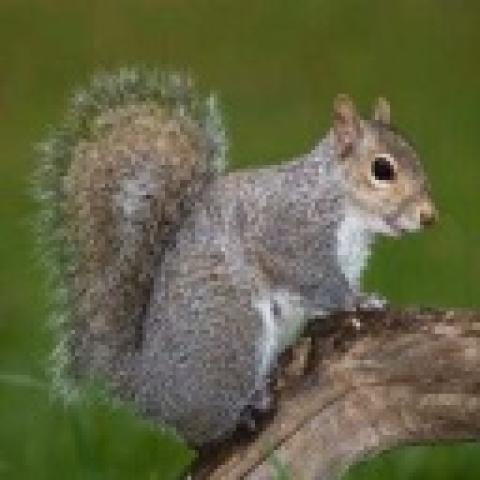small_animal: (26, 60, 442, 450)
